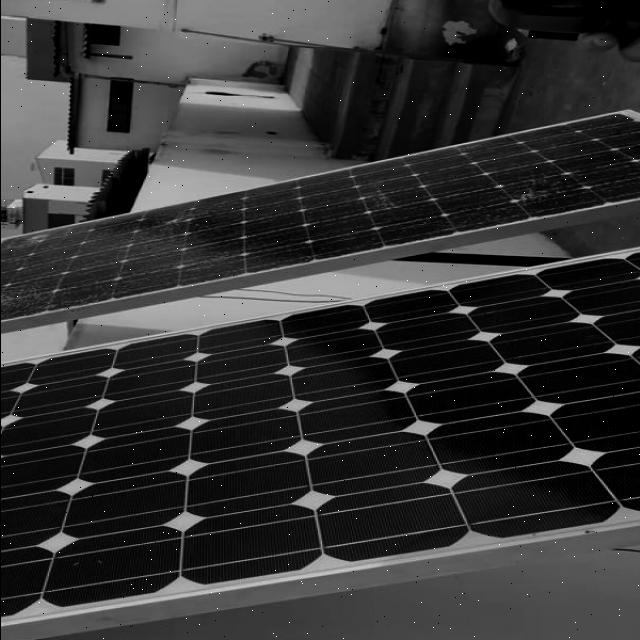Normal Solar Panel: (0, 253, 640, 622)
